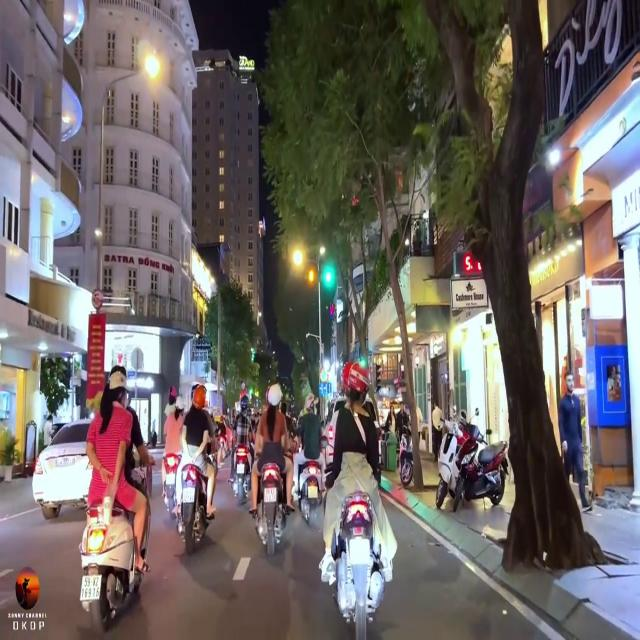bien_trang: (80, 572, 100, 598)
